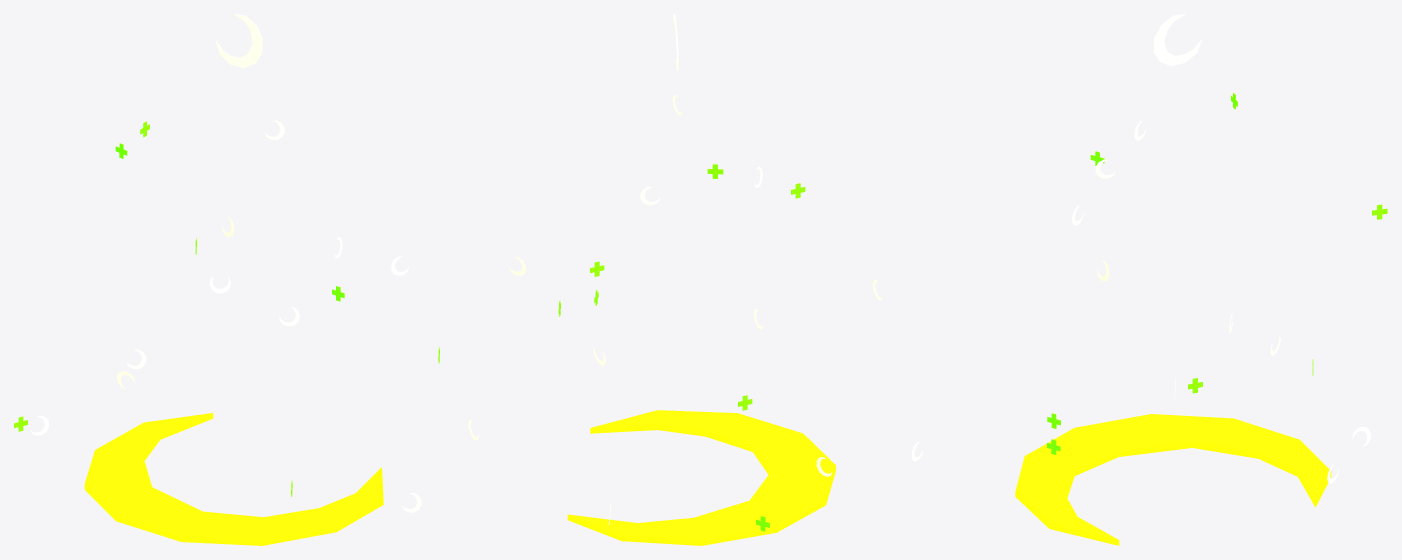
Rendered from MayariShieldd.fbx.
3 views of the same model, side by side, from view 1: azimuth 30°, elevation 25°; view 2: azimuth 150°, elevation 25°; view 3: azimuth 270°, elevation 25° (orthographic). The views are drawn at different scales.
Visible parts, largest first — view 1: Circle, Circle.011; view 2: Circle; view 3: Circle, Circle.011.
Part boxes in pixels (bbox=[...]): Circle: bbox=[84, 413, 383, 545]; Circle.011: bbox=[215, 14, 262, 67]; Circle: bbox=[567, 410, 835, 545]; Circle: bbox=[1015, 414, 1331, 545]; Circle.011: bbox=[1153, 14, 1201, 65].
Bounding box in the file's own units: 567 × 718 × 651.
